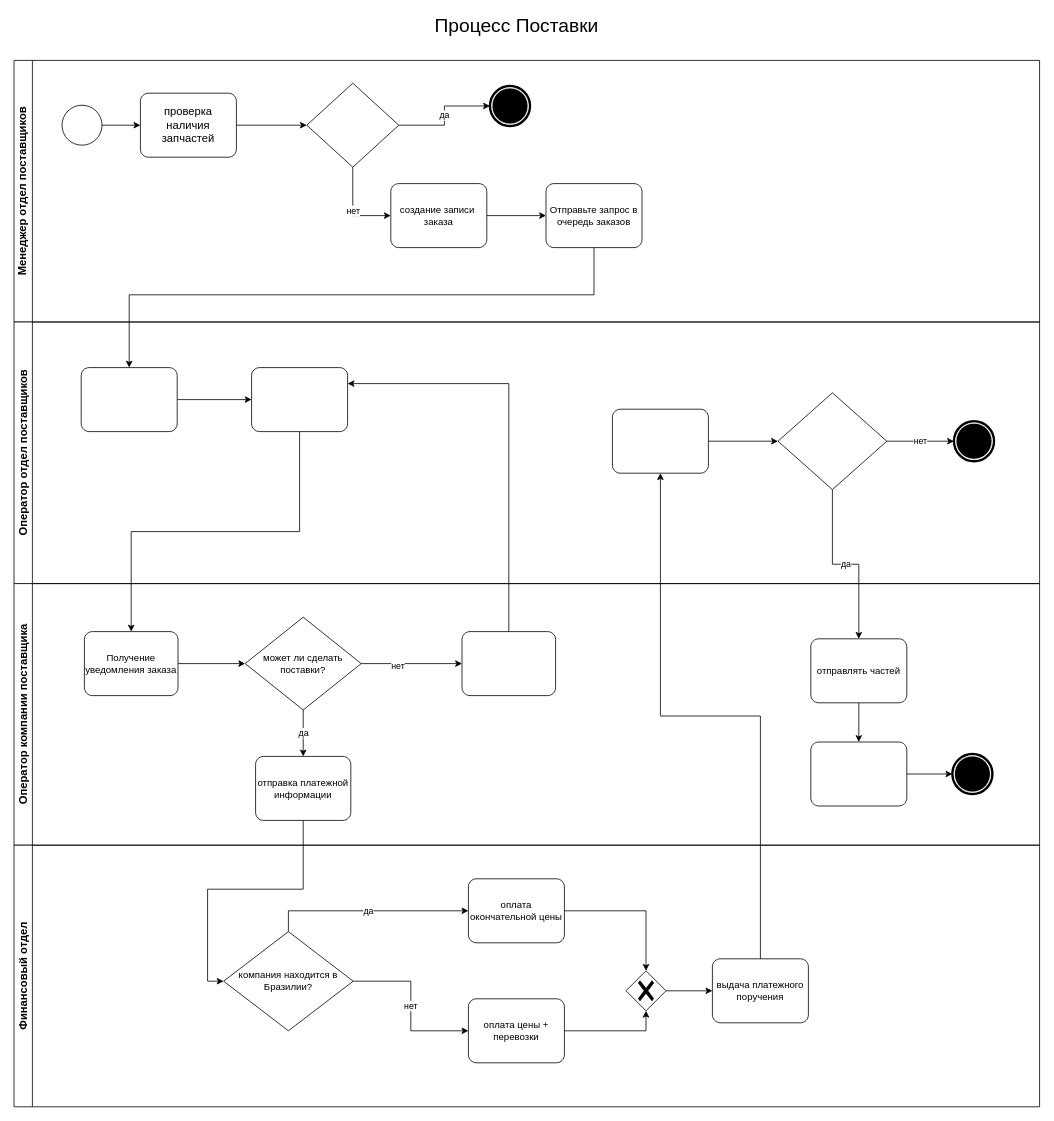
Some shapes in this 1054 by 1121 pixel diagram are drawn without their labels. Here are the shapes that lost their labels. From the top down, the centre of each, then its label:
At pixel 352 124: "Достаточно ли запасов?".
At pixel 128 399: "Выбор заказов в соответствии с уровнем их критичности".
At pixel 299 399: "Выбор компании-поставщика".
At pixel 660 440: "запрос на поставку".
At pixel 832 441: "есть ли задержка?".
At pixel 508 663: "уведомление отказа".
At pixel 858 773: "добавить скидку".
